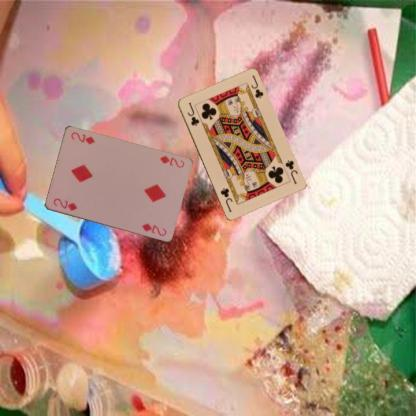2d: (157, 153, 186, 169), (51, 196, 78, 212)
Jc: (282, 157, 299, 186), (184, 100, 200, 127)
